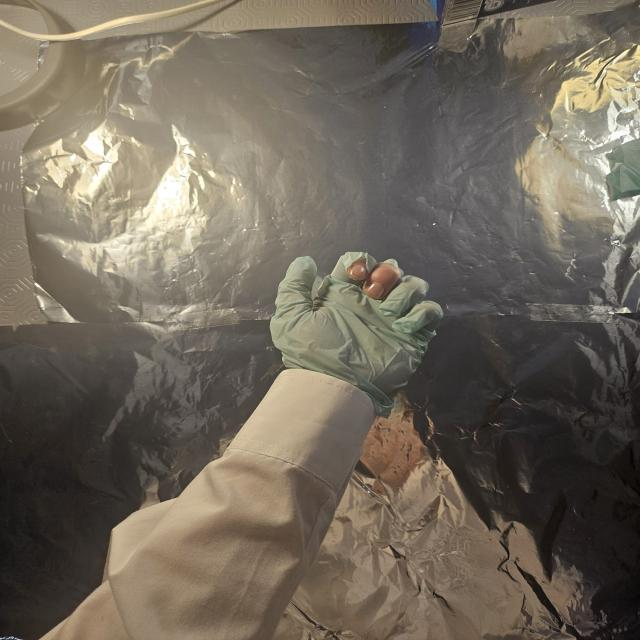gloves_damaged: (266, 248, 450, 419)
